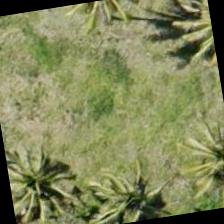Kelapa_Sawit: (3, 129, 85, 223), (76, 159, 175, 223), (164, 110, 223, 210)
